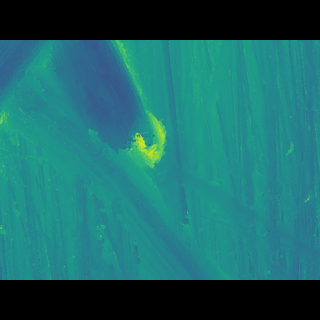Loch: (0, 69, 226, 250), (113, 121, 174, 171)
